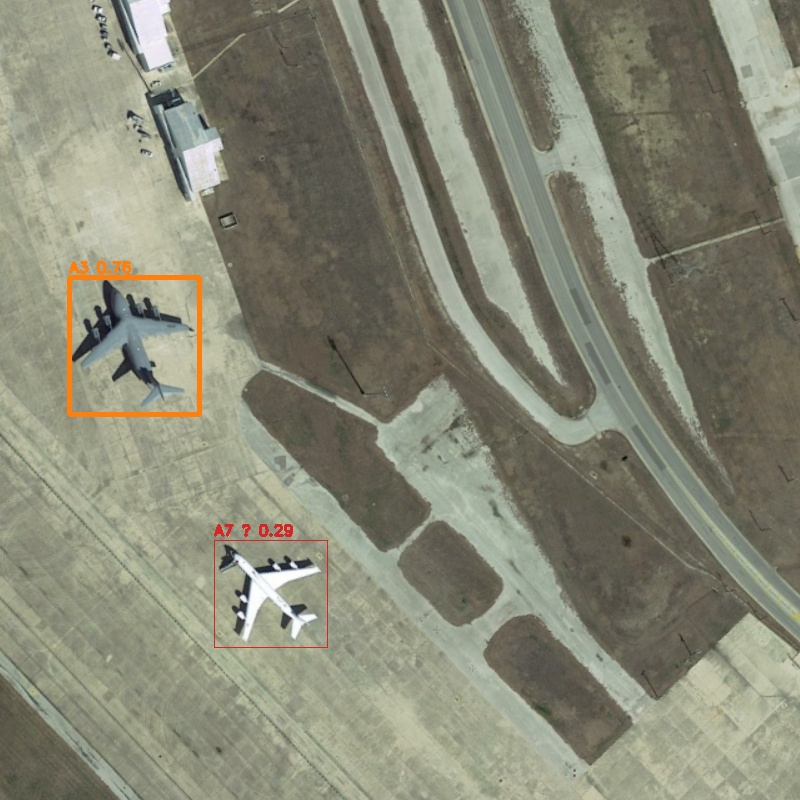A3: (69, 277, 199, 414)
A7: (214, 540, 327, 647)
